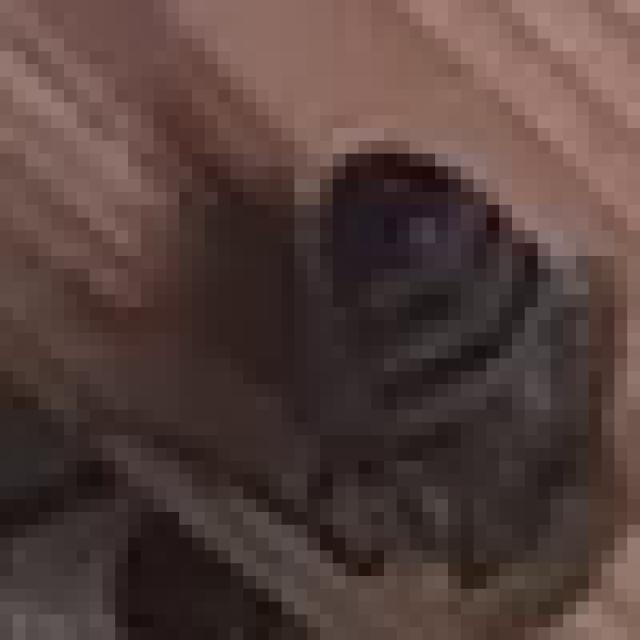honeybee: (311, 141, 621, 616)
